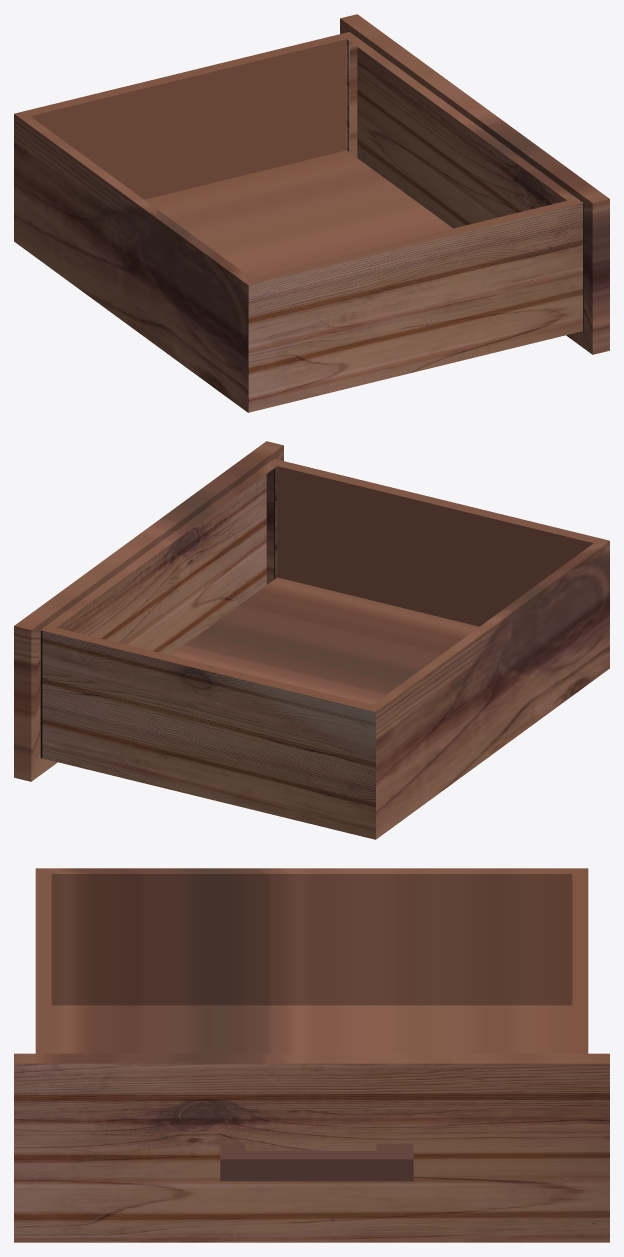
File: Guardado.fbx
3 renders of one model, top to bottom at view 1: azimuth 30°, elevation 25°; view 2: azimuth 150°, elevation 25°; view 3: azimuth 270°, elevation 25°, orthographic. The views are drawn at different scales.
Visible parts, largest first — view 1: Guardado1; view 2: Guardado1; view 3: Guardado1.
Boxes of the visible parts, left/top/right/bottom form: Guardado1: left=14, top=14, right=609, bottom=412; Guardado1: left=14, top=441, right=609, bottom=839; Guardado1: left=14, top=868, right=609, bottom=1242.
Size of the model in its own units: 411 by 157 by 473.
Materials: 2 (1 with a texture image).
